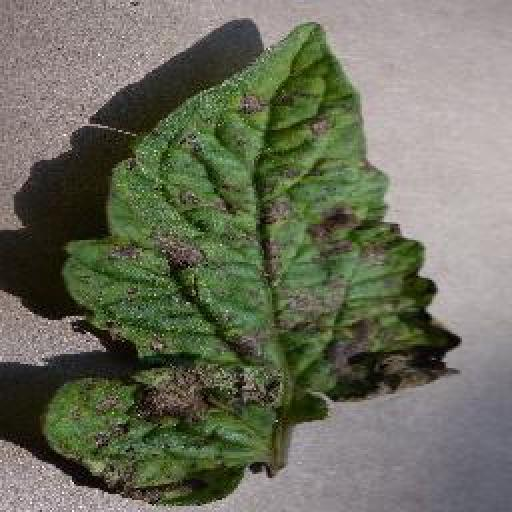Early Blight: (38, 17, 463, 512)
